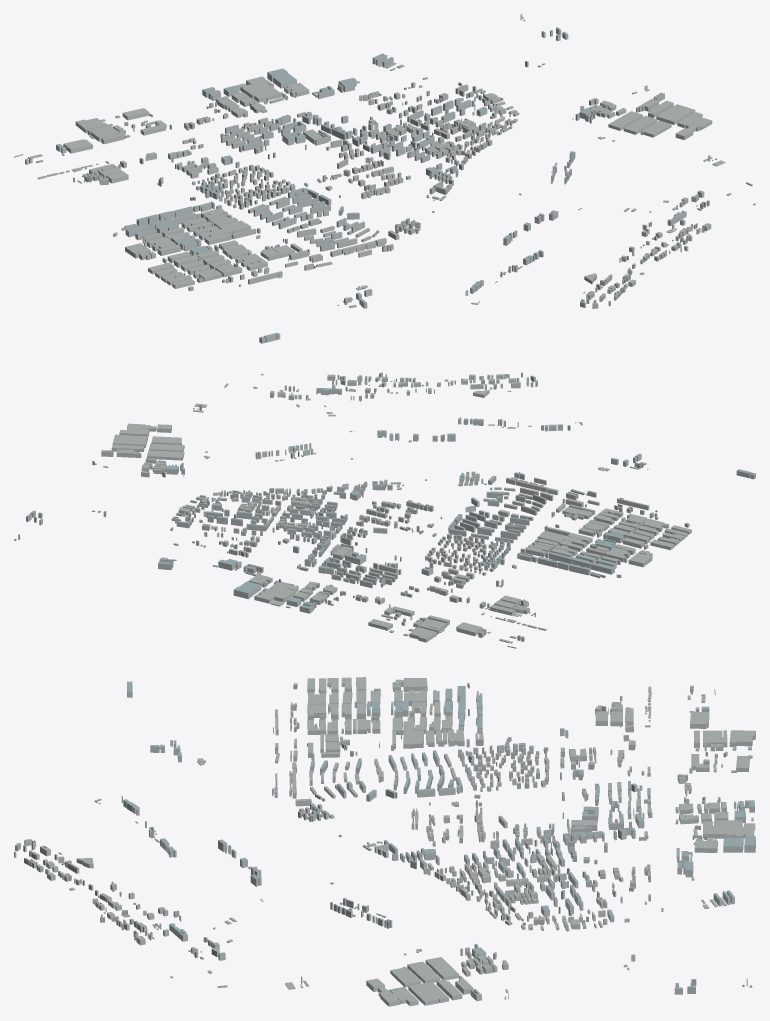
Rendered from far.glb.
The picture shows the model from 3 angles, top to bottom: view 1: azimuth 30°, elevation 25°; view 2: azimuth 150°, elevation 25°; view 3: azimuth 270°, elevation 25°; orthographic projection. The views are drawn at different scales.
Size of the model in its own units: 2187 by 25.5 by 2105.
